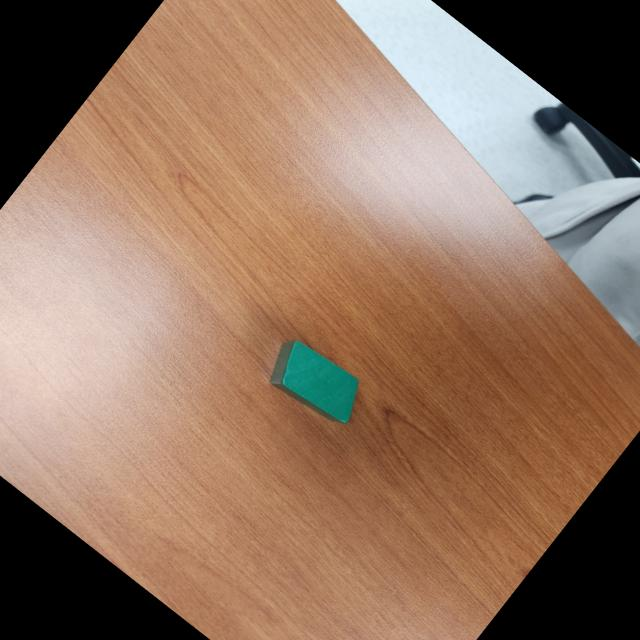green: (259, 329, 373, 435)
